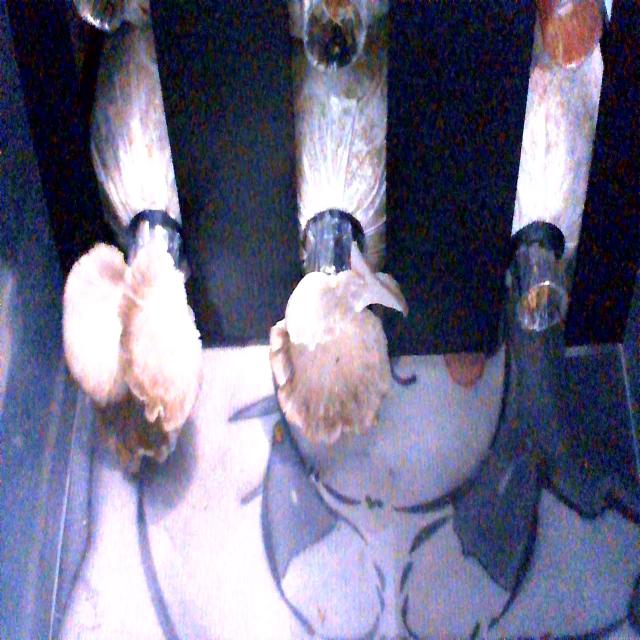big: (50, 236, 212, 460), (257, 252, 396, 470)
nfound: (514, 231, 576, 363)
